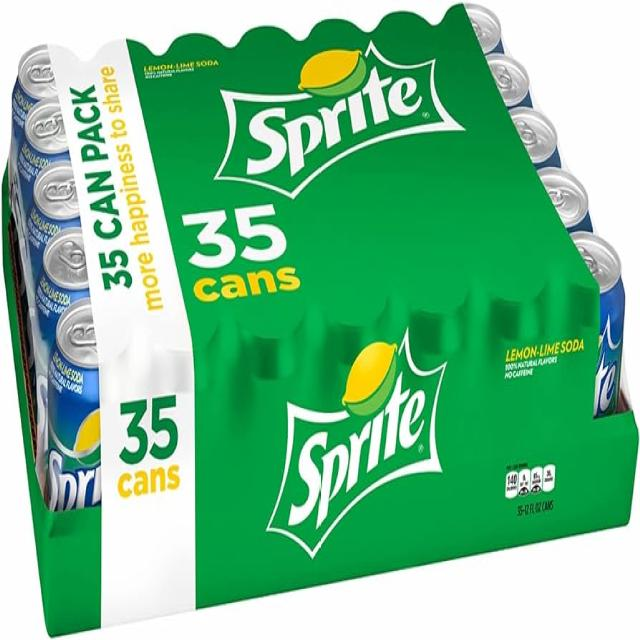sprite: (41, 322, 136, 584), (32, 237, 136, 440), (551, 249, 631, 488)
